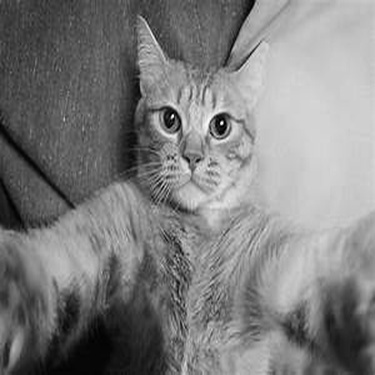cat: (11, 13, 368, 369)
